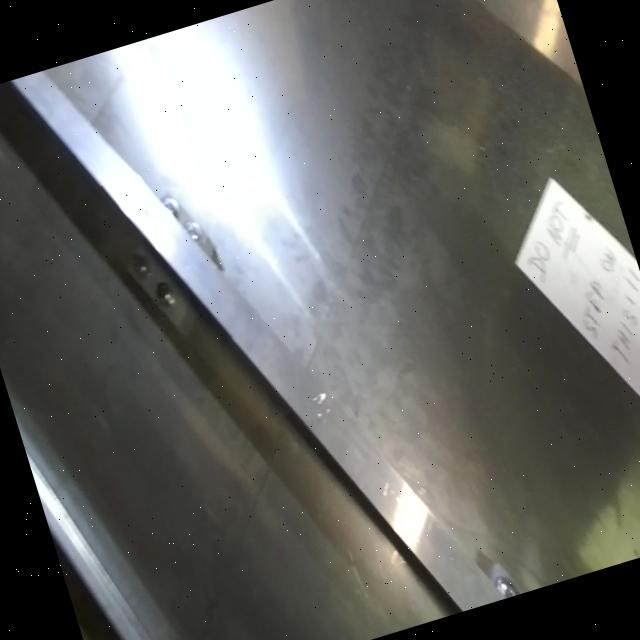blocks: (82, 152, 264, 368), (431, 538, 546, 616)
